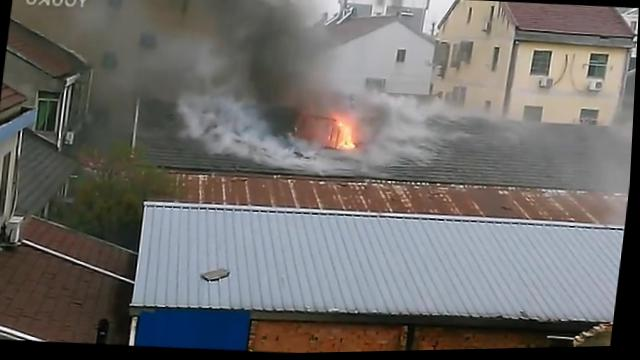fire: (336, 123, 360, 150)
